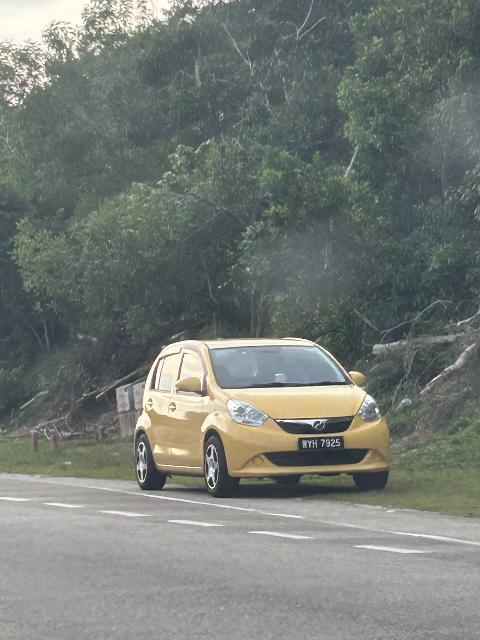License_Plate: (297, 435, 347, 455)
WYH7925: (297, 435, 347, 455)
car: (141, 331, 391, 499)
